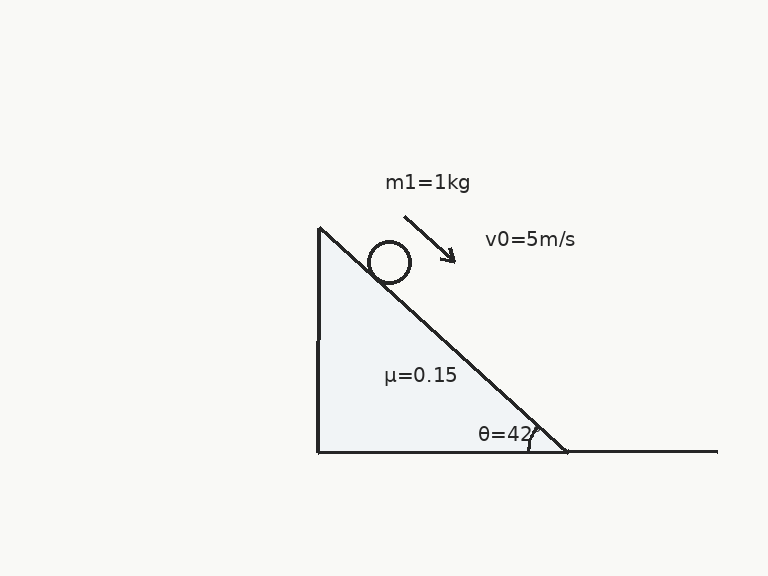ball: (365, 238, 413, 286)
ramp: (316, 225, 570, 454)
